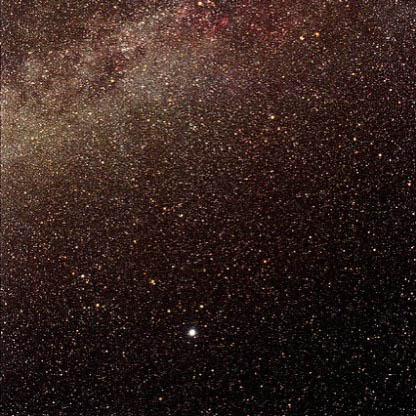Lyra: (184, 326, 204, 345), (159, 303, 176, 318), (191, 300, 208, 314), (91, 297, 105, 313), (146, 273, 160, 288), (75, 267, 88, 283)
